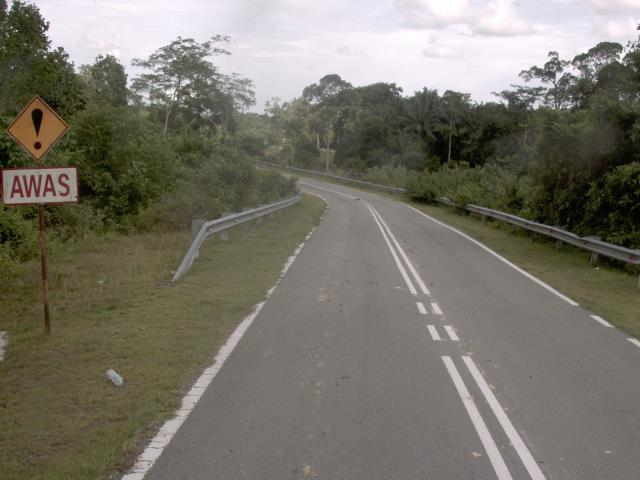traffic_sign: (1, 89, 76, 162)
